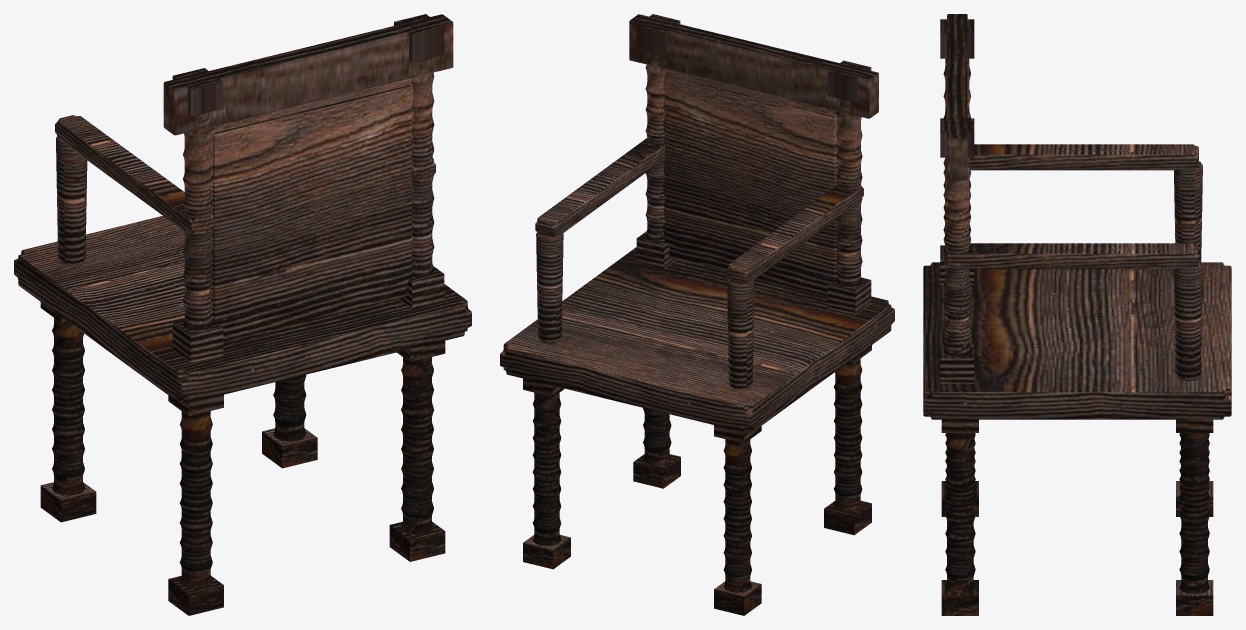
The model's file is Antique_Chair_11.fbx.
The picture shows the model from 3 angles, left to right: view 1: azimuth 30°, elevation 25°; view 2: azimuth 150°, elevation 25°; view 3: azimuth 270°, elevation 25°; orthographic projection. The views are drawn at different scales.
Parts seen in each view (by area): view 1: Antique_Chair; view 2: Antique_Chair; view 3: Antique_Chair.
Boxes of the visible parts, x1,y1,x2,y2 form: Antique_Chair: (14, 14, 471, 615); Antique_Chair: (500, 14, 894, 615); Antique_Chair: (923, 14, 1231, 615).
Size of the model in its own units: 0.59 by 1.02 by 0.59.
Materials: 1 (1 with a texture image).
